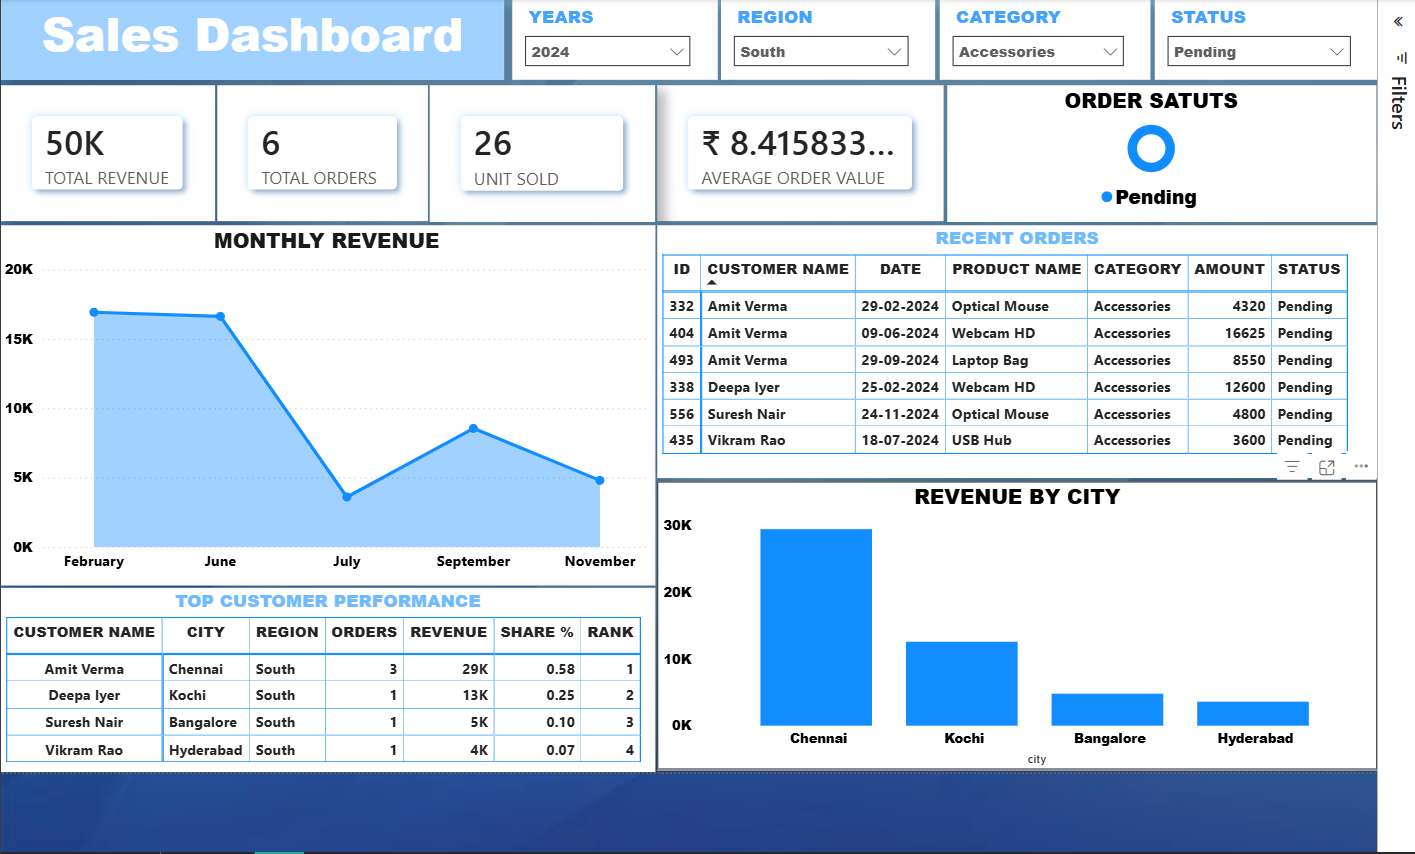

The dashboard page shown, as its layout file describes it:
{"tool":"powerbi","page":{"name":"Page 1","canvas":[1280,720],"ordinal":0},"visuals":[{"type":"shape","box":[0,0,467.9,75.5],"z":0},{"type":"slicer","title":"YEARS","fields":{"Values":["sales_cleaned.order_year"]},"box":[475.5,0,190.9,75.5],"z":1000},{"type":"slicer","title":"YEARS","fields":{"Values":["sales_cleaned.region"]},"box":[670,0,199.1,75.5],"z":2000},{"type":"slicer","title":"YEARS","fields":{"Values":["sales_cleaned.category"]},"box":[872.7,0,196.4,75.5],"z":3000},{"type":"slicer","title":"YEARS","fields":{"Values":["sales_cleaned.status"]},"box":[1072.7,0,207.3,75.5],"z":4000},{"type":"cardVisual","title":"TOTAL REVENUE","fields":{"Data":["Sum(sales_cleaned.Toal Sales)"]},"box":[0,80.4,198.9,126.8],"z":5000},{"type":"cardVisual","title":"TOTAL REVENUE","fields":{"Data":["sales_cleaned.Total Orders"]},"box":[201.5,80.5,196,126.5],"z":6000},{"type":"cardVisual","title":"TOTAL REVENUE","fields":{"Data":["Avg(sales_cleaned.Toal Sales)"]},"box":[610.5,80.5,266.5,126.5],"z":7000},{"type":"cardVisual","title":"TOTAL REVENUE","fields":{"Data":["Sum(sales_cleaned.quantity)"]},"box":[399.2,80.2,209.5,127],"z":8000},{"type":"areaChart","title":"MONTHLY REVENUE","fields":{"Y":["Sum(sales_cleaned.Toal Sales)"],"Category":["sales_cleaned.order_date.Variation.Date Hierarchy.Month"]},"box":[0,210,608.8,335.5],"z":9000},{"type":"donutChart","title":"ORDER SATUTS","fields":{"Category":["sales_cleaned.status"],"Y":["Sum(sales_cleaned.order_id)"]},"box":[880.5,80.5,399.5,127],"z":10000},{"type":"pivotTable","title":"TOP CUSTOMER PERFORMANCE","fields":{"Values":["Min(sales_cleaned.city)","Min(sales_cleaned.region)","sales_cleaned.Total Orders 2","sales_cleaned.Total 2 Revenue","sales_cleaned.Share %","sales_cleaned.Rank"],"Rows":["sales_cleaned.customer_name"]},"box":[0,547.6,608.6,172.4],"z":11000},{"type":"pivotTable","title":"RECENT ORDERS","fields":{"Rows":["sales_cleaned.order_id"],"Values":["Min(sales_cleaned.customer_name)","Min(sales_cleaned.order_date)","Min(sales_cleaned.product_name)","Min(sales_cleaned.category)","sales_cleaned.Amount","Min(sales_cleaned.status)"]},"box":[610.5,210.5,669.8,234.9],"z":12000},{"type":"clusteredColumnChart","title":"REVENUE BY CITY","fields":{"Category":["sales_cleaned.city"],"Y":["Sum(sales_cleaned.Toal Sales)"]},"box":[610.4,448.3,670,269.2],"z":13000}]}

Visuals, with their boxes in screenshot pixels (x1, y1, x2, y2):
shape: (0,0,499,75)
"YEARS" slicer: (507,0,715,75)
"YEARS" slicer: (719,0,936,75)
"YEARS" slicer: (940,0,1154,75)
"YEARS" slicer: (1158,0,1384,75)
"TOTAL REVENUE" cardVisual: (0,80,206,219)
"TOTAL REVENUE" cardVisual: (209,80,422,218)
"TOTAL REVENUE" cardVisual: (655,80,945,218)
"TOTAL REVENUE" cardVisual: (424,80,653,219)
"MONTHLY REVENUE" areaChart: (0,222,653,587)
"ORDER SATUTS" donutChart: (949,80,1384,219)
"TOP CUSTOMER PERFORMANCE" pivotTable: (0,590,652,778)
"RECENT ORDERS" pivotTable: (655,222,1385,478)
"REVENUE BY CITY" clusteredColumnChart: (654,481,1385,775)
